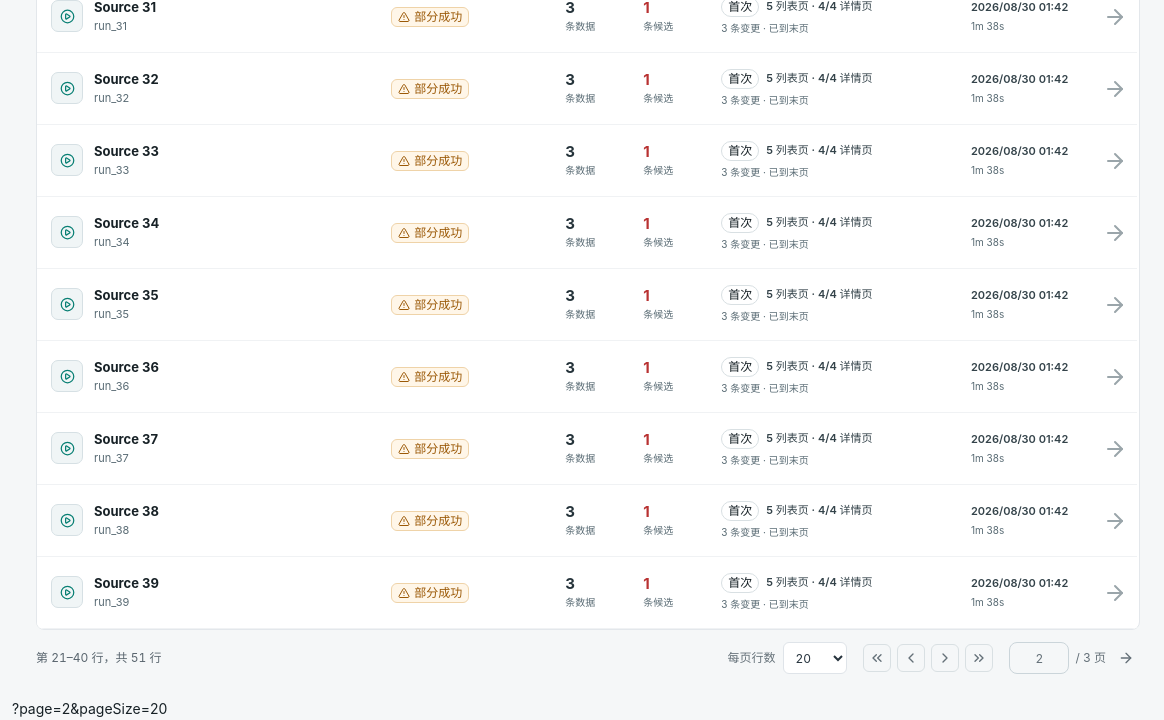
Scenario: runs uses the shared bounded list and replaces pages, preserving URL and filter behavior
The width and height of the screenshot is (1164, 720).
(page scrolled)
Expected: the text "第 21–40 行，共 51 行" is shown, [36, 648, 162, 668]
Click the button named "下一页" at (945, 658), box [931, 644, 959, 672]
(page scrolled)
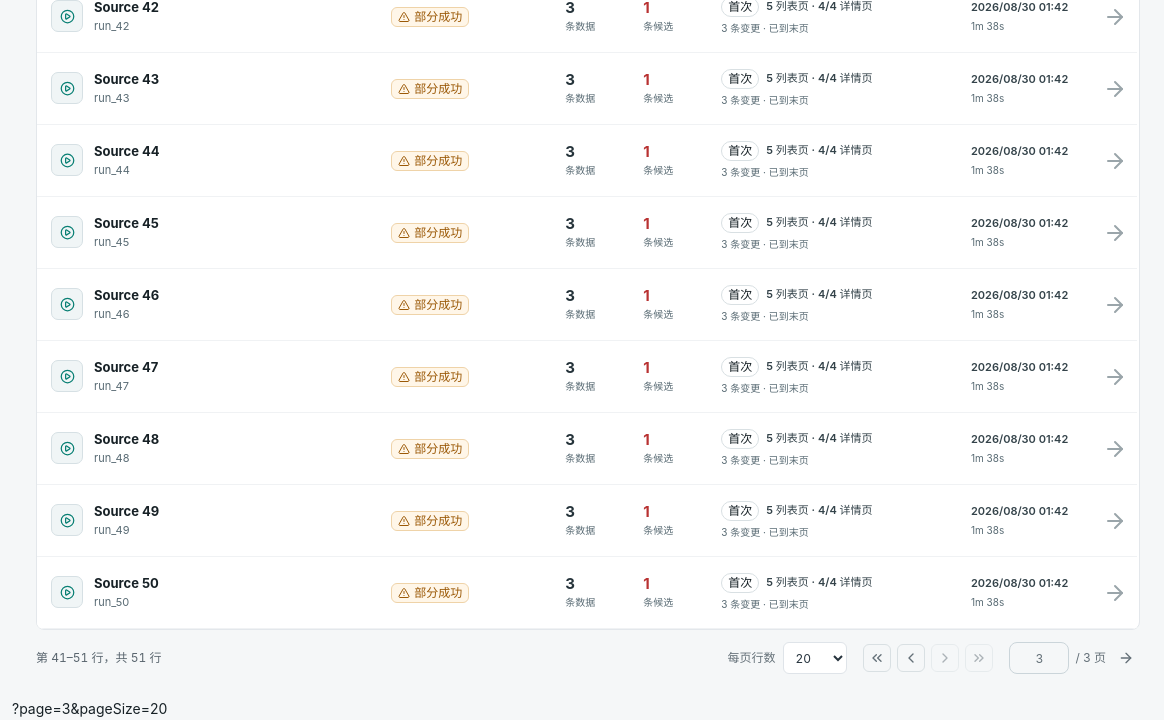
Result: the text "第 41–51 行，共 51 行" is shown at [36, 648, 162, 668]
Result: the number of links is 11
Result: the text with test id "location" shows "page=3" at [12, 700, 167, 717]
Select "50" in the dropdown labelled "每页行数" at (815, 658), box [783, 642, 847, 674]
(page scrolled)
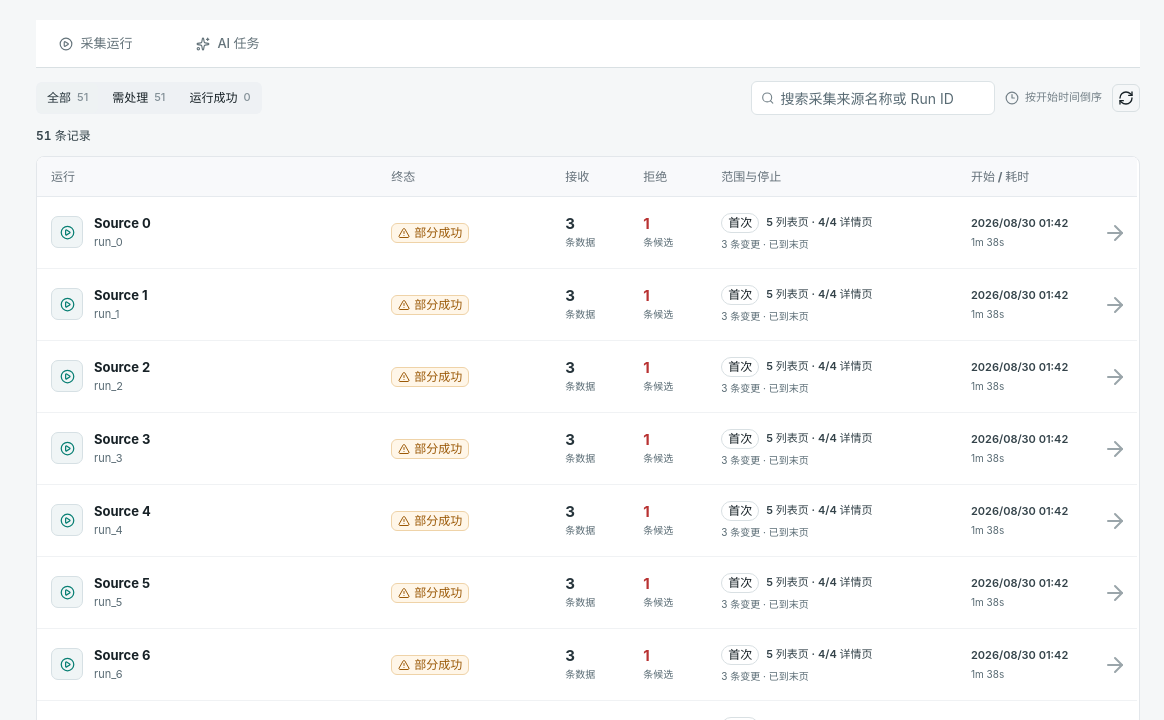
Type "no-matching-data" into the field named "搜索运行" at (883, 98), box [780, 83, 985, 113]
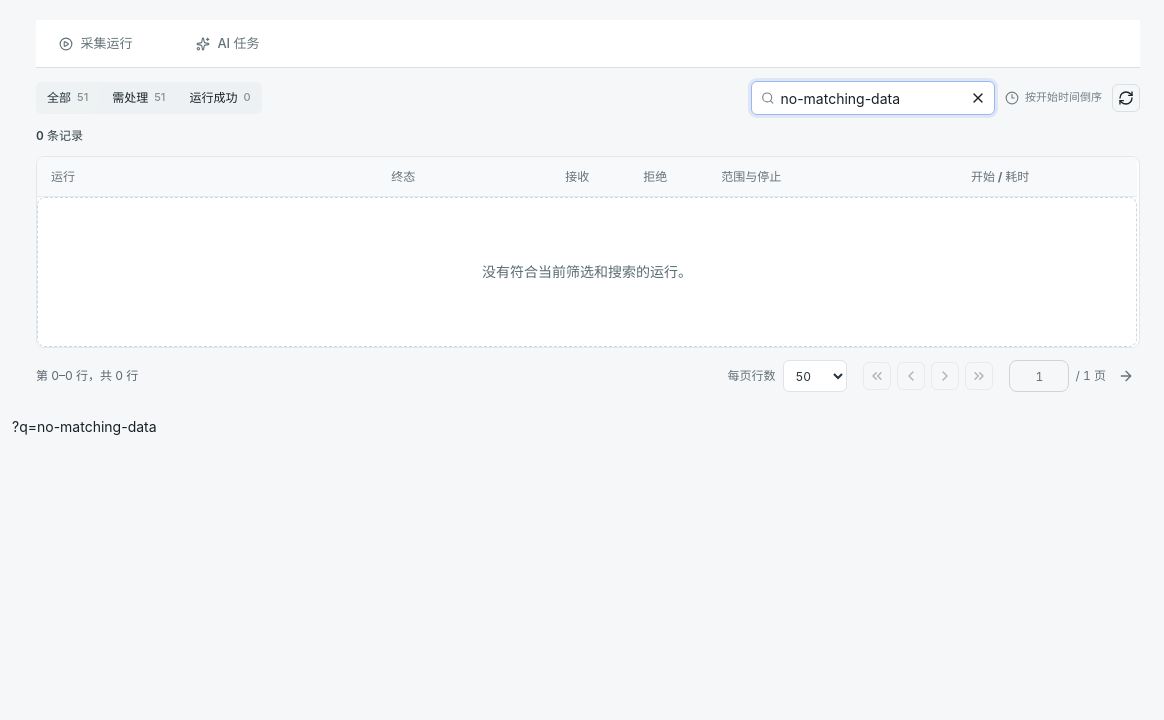
Result: the number field named "当前页码" holds "1" at [1009, 360, 1069, 392]
Result: the text "第 0–0 行，共 0 行" is shown at [36, 366, 138, 386]
